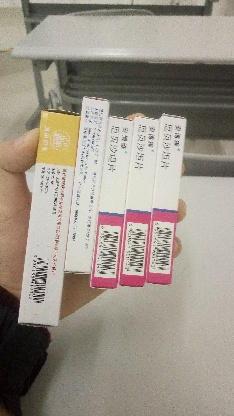pillbox: (20, 112, 74, 329), (68, 96, 108, 270), (151, 113, 185, 290), (95, 118, 129, 294), (122, 114, 154, 289)
